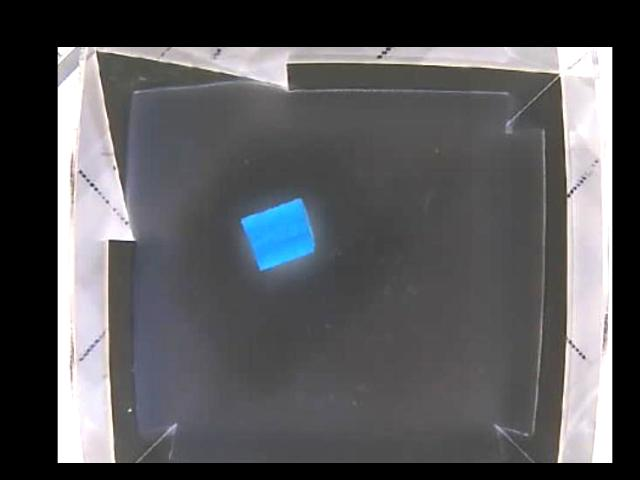Carrot: (240, 196, 317, 270)
